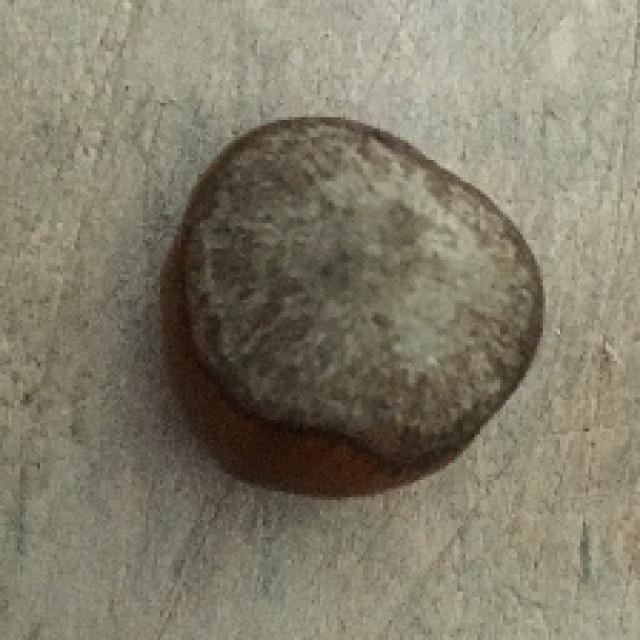qualityHazelnut: (157, 114, 550, 496)
